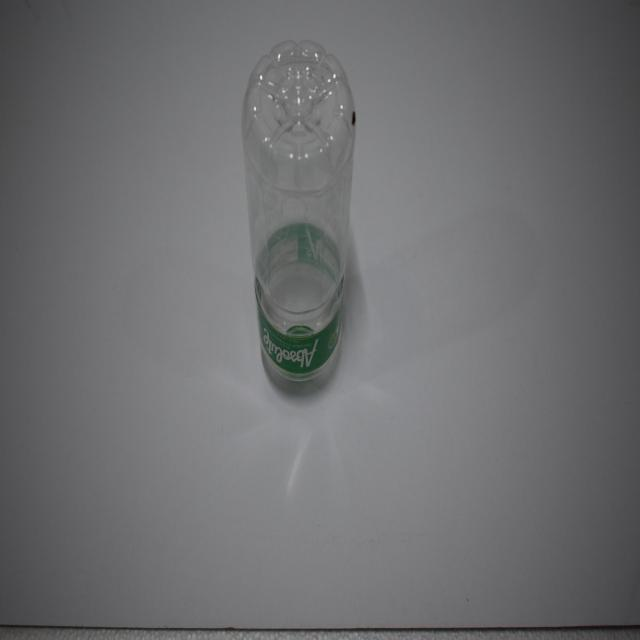bottle: (242, 44, 357, 408)
